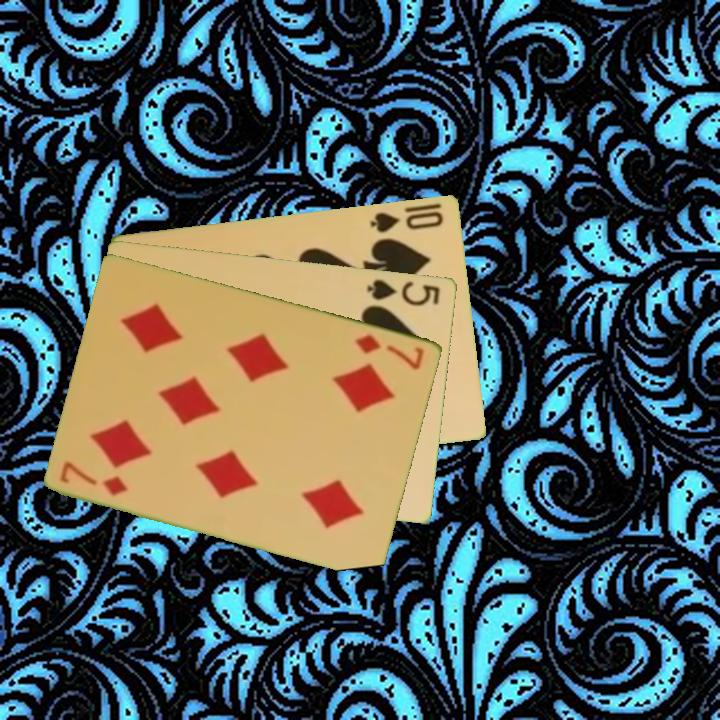10s: (367, 207, 447, 235)
5s: (364, 275, 444, 309)
7d: (352, 330, 428, 373), (57, 458, 132, 499)
